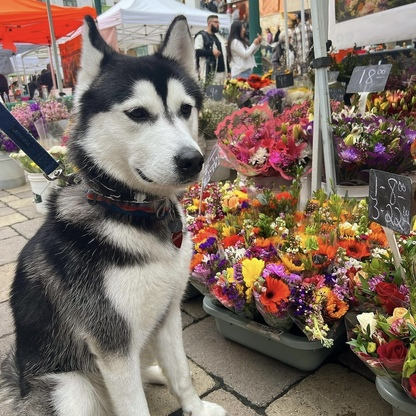husky: (1, 9, 237, 416)
